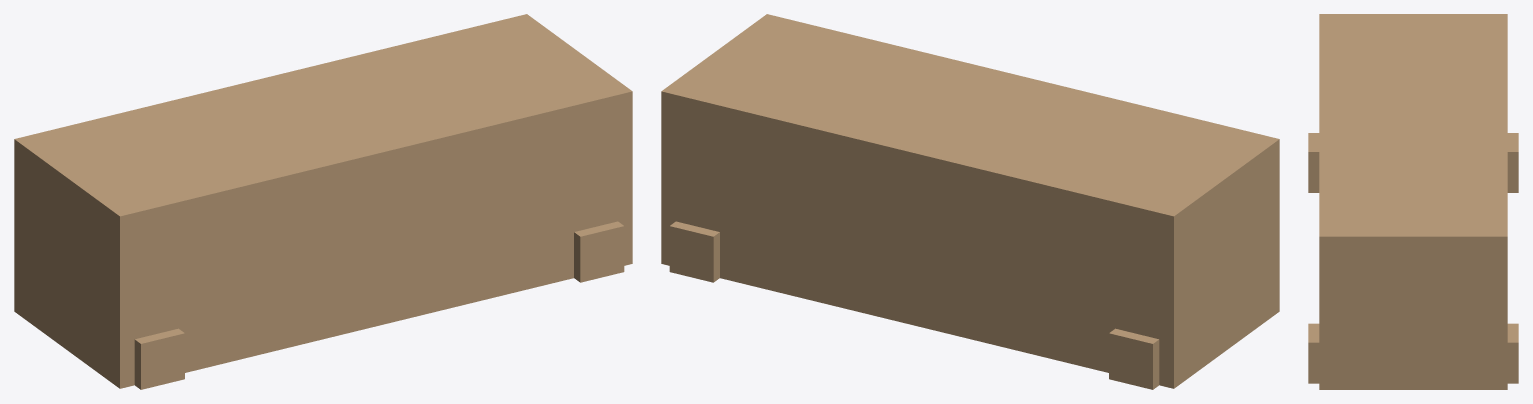
File: WaterTrough.gltf
3 views of the same model, side by side, from view 1: azimuth 30°, elevation 25°; view 2: azimuth 150°, elevation 25°; view 3: azimuth 270°, elevation 25° (orthographic). The views are drawn at different scales.
Visible parts, largest first — view 1: WaterTrough; view 2: WaterTrough; view 3: WaterTrough.
Boxes of the visible parts, x1=… form: WaterTrough: x1=14, y1=14, x2=632, y2=389; WaterTrough: x1=661, y1=14, x2=1279, y2=389; WaterTrough: x1=1308, y1=14, x2=1518, y2=389.
Bounding box in the file's own units: 1.4 × 0.45 × 0.56.
